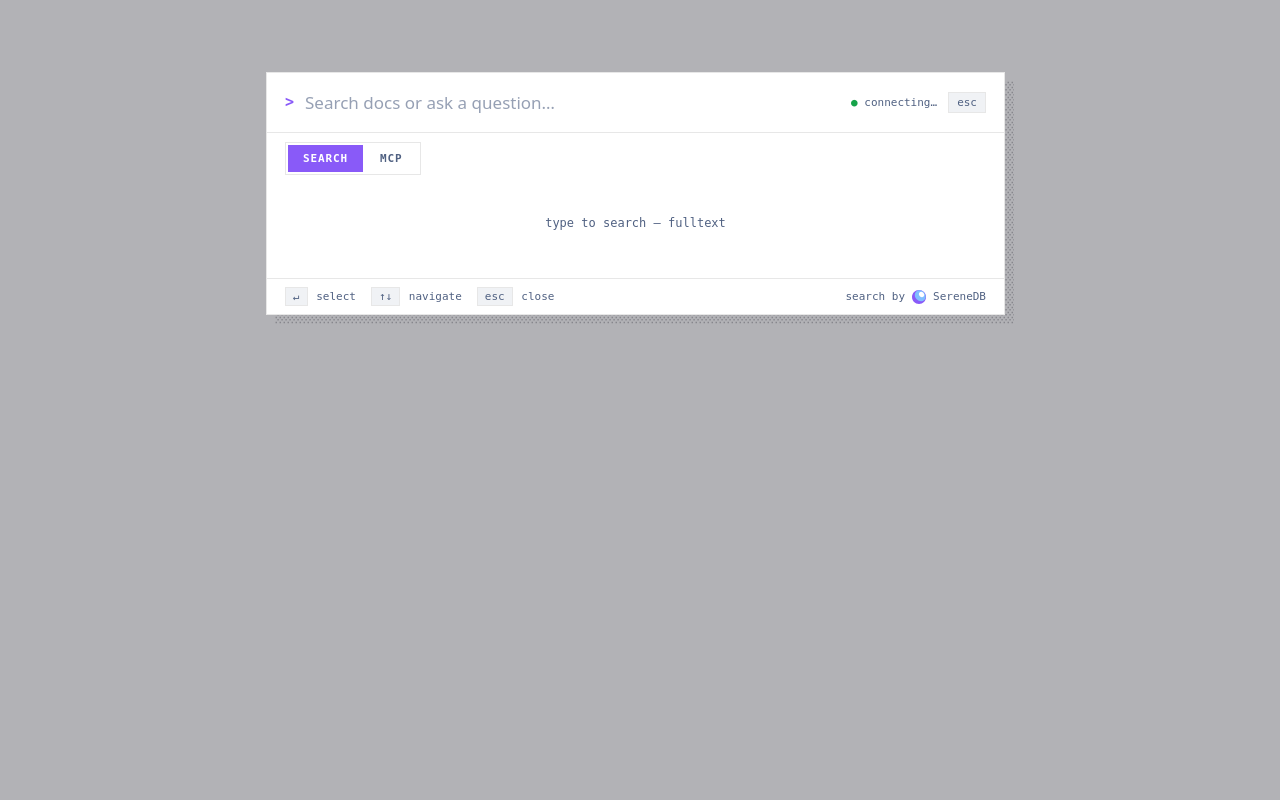
Test: sectioned search UI › does not render a redundant heading for a single populated section
Type "sql" into the field with placeholder "Search docs or ask a question…" at (572, 102), box [305,82,840,123]
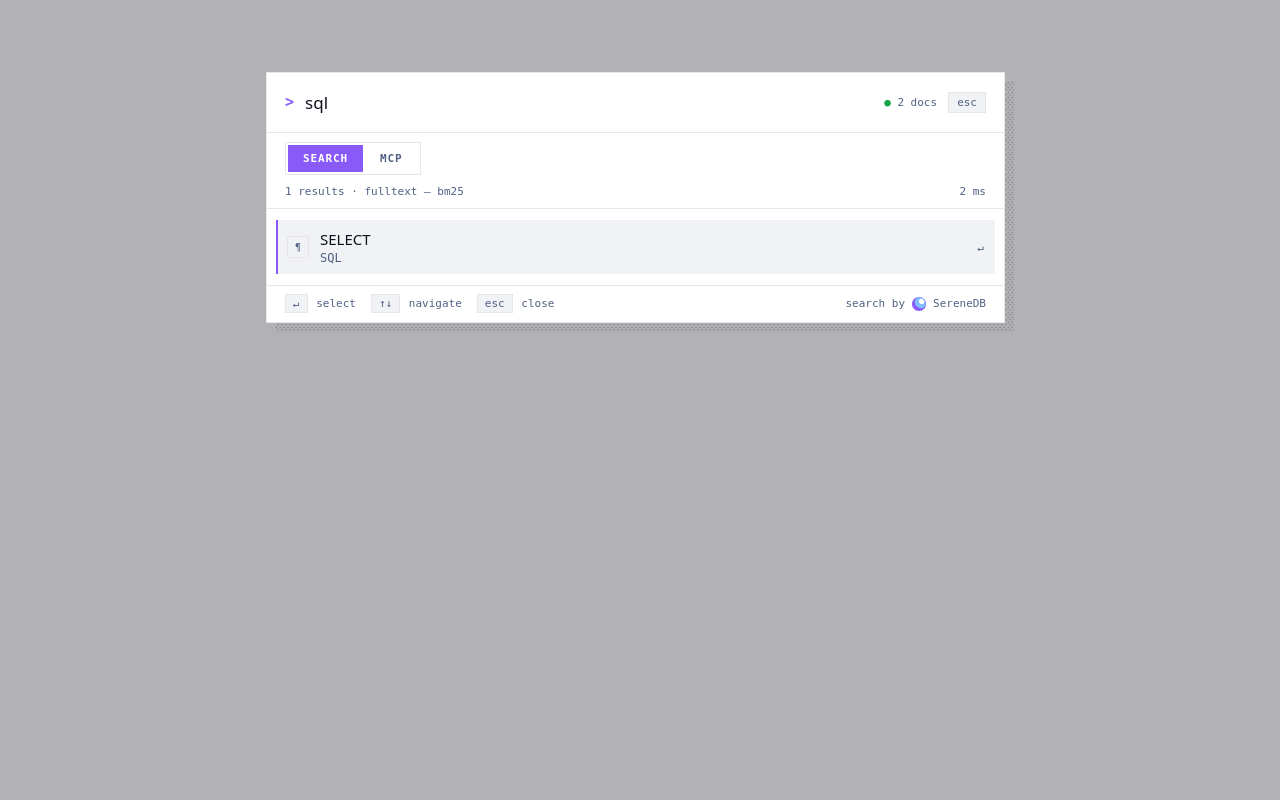
expect the button "¶ SELECT SQL ↵" is shown: met, box [276,220,995,274]
